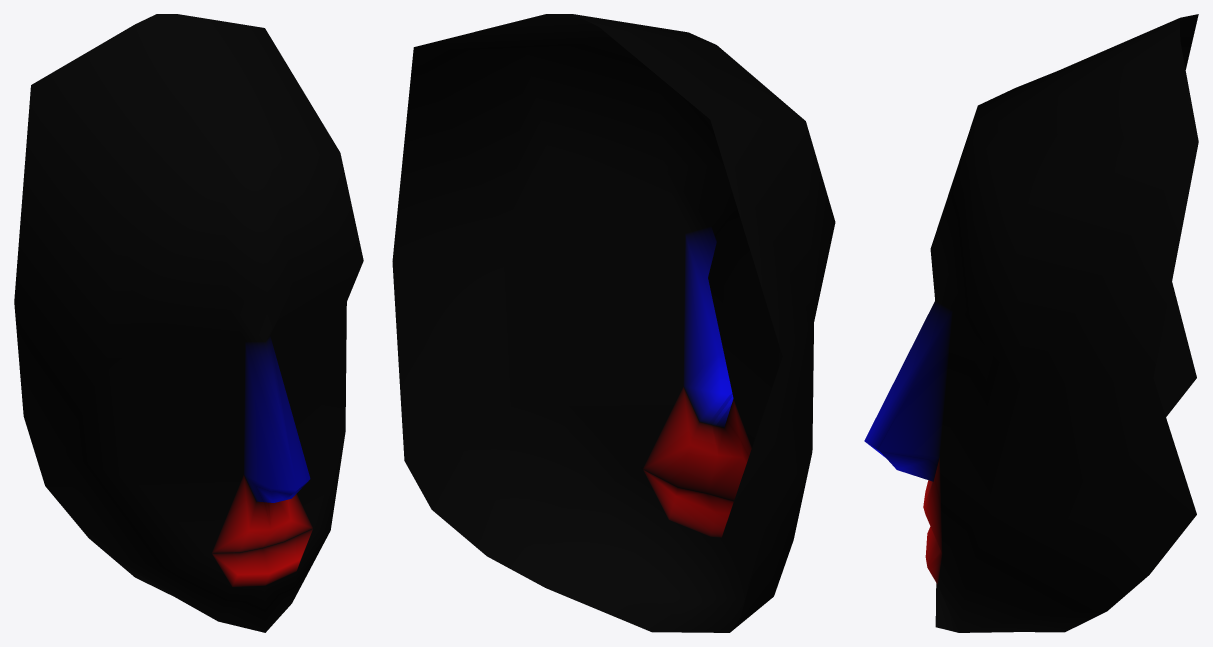
3 renders of one model, left to right at view 1: azimuth 30°, elevation 25°; view 2: azimuth 150°, elevation 25°; view 3: azimuth 270°, elevation 25°, orthographic. The views are drawn at different scales.
Parts seen in each view (by area): view 1: CORPO PLANE; view 2: CORPO PLANE; view 3: CORPO PLANE.
Boxes of the visible parts, left/top/right/bottom form: CORPO PLANE: left=14, top=14, right=363, bottom=632; CORPO PLANE: left=392, top=14, right=835, bottom=632; CORPO PLANE: left=864, top=14, right=1198, bottom=632.
Size of the model in its own units: 123 by 206 by 104.
